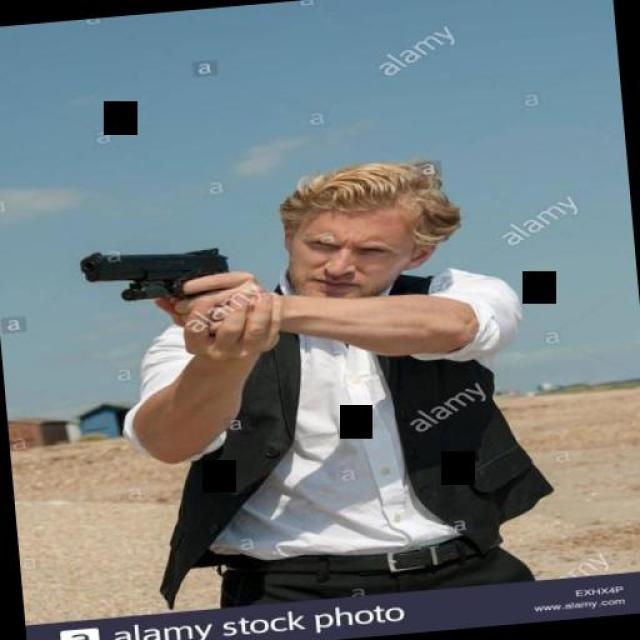gun: (72, 234, 236, 306)
